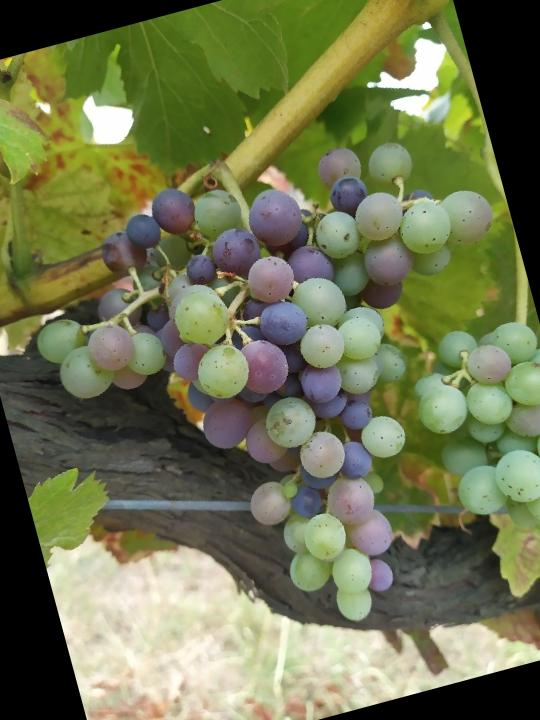grape: (1, 106, 540, 687)
